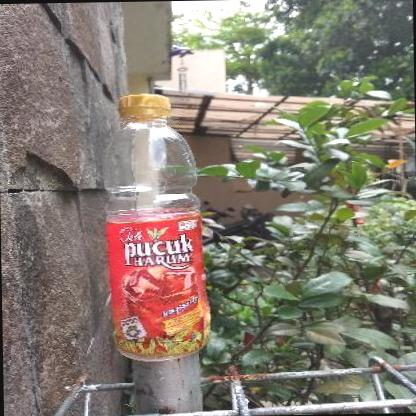plastic_bottles: (97, 91, 216, 368)
